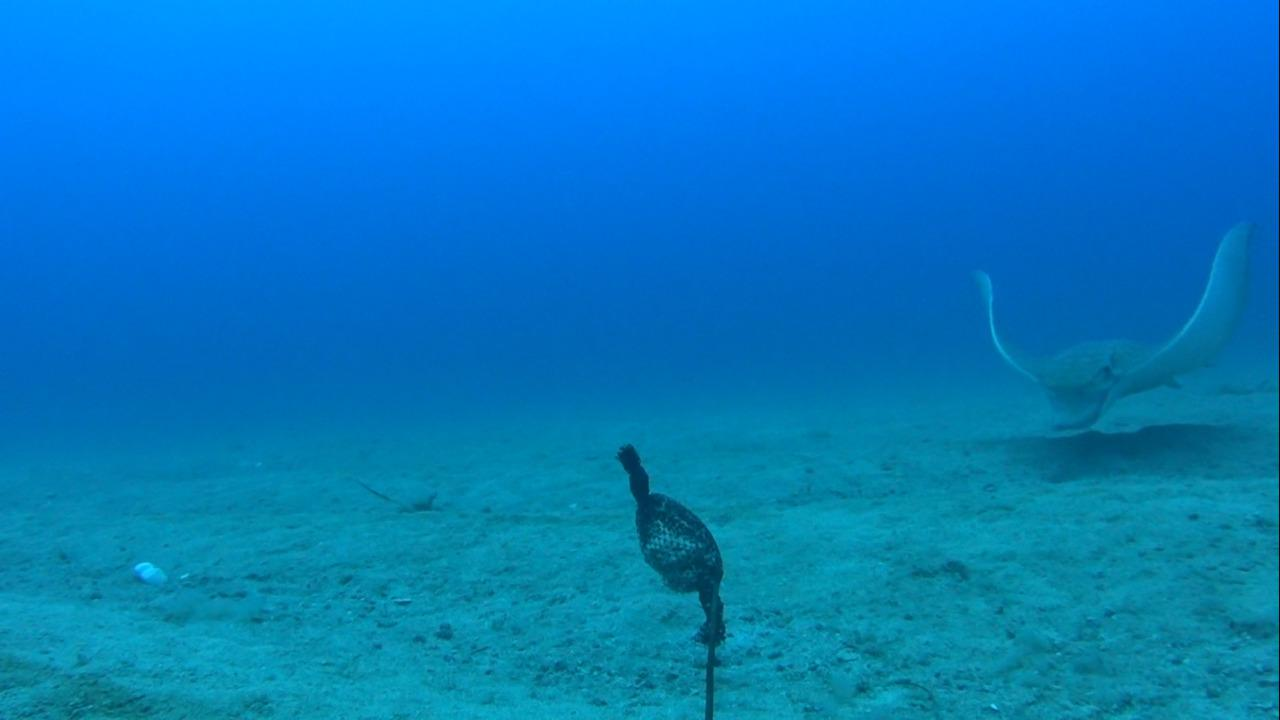myliobatis: (962, 212, 1279, 435)
